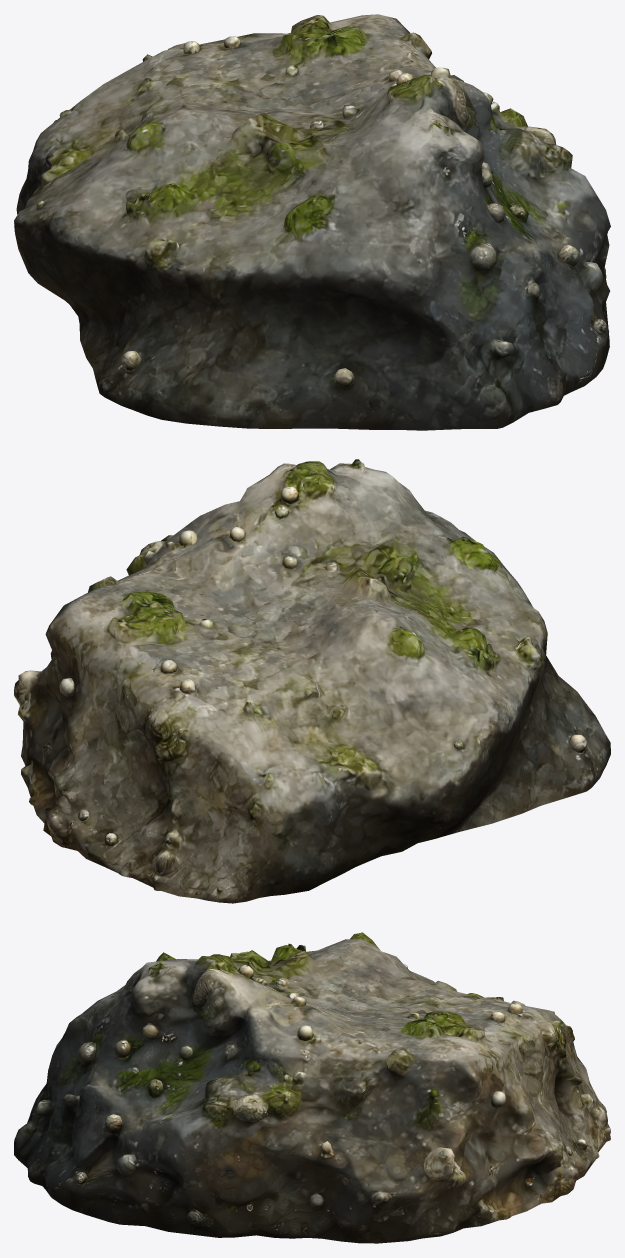
File: Rock_A.fbx
The picture shows the model from 3 angles, top to bottom: view 1: azimuth 30°, elevation 25°; view 2: azimuth 150°, elevation 25°; view 3: azimuth 270°, elevation 25°; orthographic projection. The views are drawn at different scales.
Parts seen in each view (by area): view 1: tripo_node_111895d8; view 2: tripo_node_111895d8; view 3: tripo_node_111895d8.
Part boxes in pixels (left/top/right/bottom): tripo_node_111895d8: left=14, top=14, right=610, bottom=430; tripo_node_111895d8: left=14, top=459, right=610, bottom=903; tripo_node_111895d8: left=14, top=932, right=610, bottom=1243.
Size of the model in its own units: 0.814 by 0.395 by 0.9995.
Materials: 1 (1 with a texture image).
